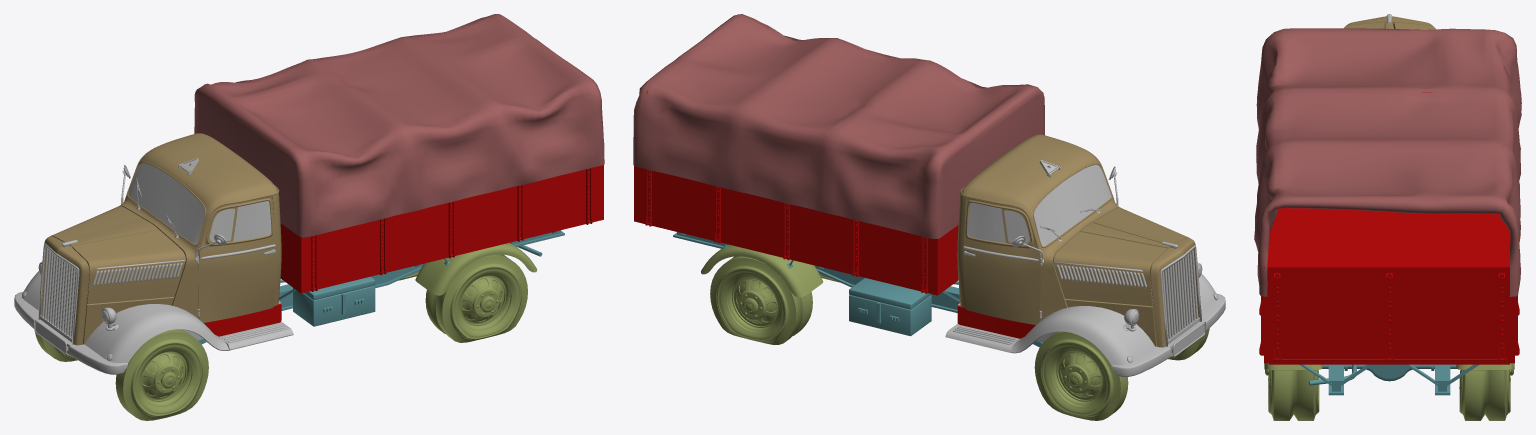
Rendered from TruckFixed.fbx.
The picture shows the model from 3 angles, left to right: view 1: azimuth 30°, elevation 25°; view 2: azimuth 150°, elevation 25°; view 3: azimuth 270°, elevation 25°; orthographic projection. The views are drawn at different scales.
Parts seen in each view (by area): view 1: blitz128Opel_low, blitz49Opel_low, blitz37Opel_low, blitz80Opel_low.001, blitz46Opel_low, blitz84Opel_low, blitz140Opel_low; view 2: blitz128Opel_low, blitz49Opel_low, blitz37Opel_low, backwheelMetal_low.001, blitz12Opel_low.001, blitz141Opel_low, blitz84Opel_low; view 3: blitz128Opel_low, blitz37Opel_low, backwheelMetal_low.001, blitz80Opel_low.001, blitz84Opel_low, blitz49Opel_low, blitz102Opel_low.
Part boxes in pixels (x1,y1,x2,y2): blitz128Opel_low: [194, 14, 604, 237]; blitz49Opel_low: [14, 133, 293, 374]; blitz37Opel_low: [280, 81, 603, 293]; blitz80Opel_low.001: [425, 254, 527, 342]; blitz46Opel_low: [115, 329, 208, 420]; blitz84Opel_low: [198, 230, 564, 344]; blitz140Opel_low: [293, 276, 375, 326]; blitz128Opel_low: [633, 14, 1044, 238]; blitz49Opel_low: [945, 134, 1225, 376]; blitz37Opel_low: [634, 91, 958, 295]; backwheelMetal_low.001: [710, 256, 812, 344]; blitz12Opel_low.001: [1034, 331, 1128, 420]; blitz141Opel_low: [849, 278, 931, 336]; blitz84Opel_low: [673, 232, 1042, 347]; blitz128Opel_low: [1254, 28, 1521, 296]; blitz37Opel_low: [1259, 92, 1519, 364]; backwheelMetal_low.001: [1459, 363, 1514, 420]; blitz80Opel_low.001: [1264, 363, 1319, 420]; blitz84Opel_low: [1266, 363, 1512, 395]; blitz49Opel_low: [1344, 14, 1436, 29]; blitz102Opel_low: [1322, 364, 1456, 381].
Size of the model in its own units: 195 by 87.01 by 75.9.
